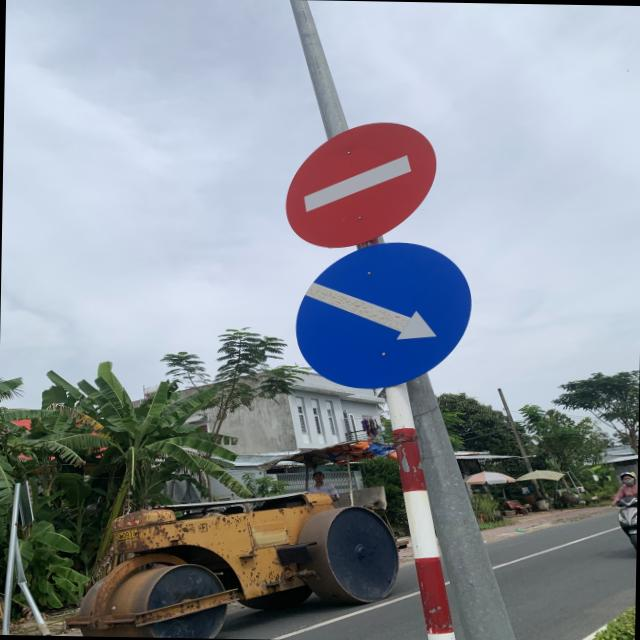Cam_Di_Nguoc_Chieu: (286, 120, 437, 248)
Chi_Huong_Di_Phai: (292, 239, 473, 390)
